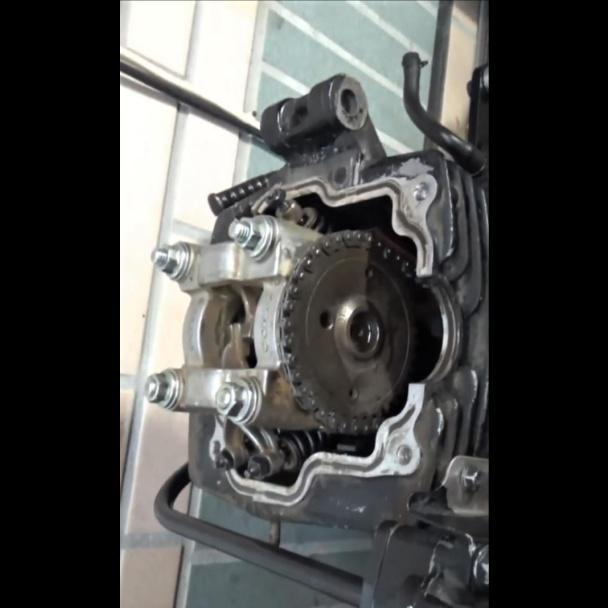hole: (396, 444, 413, 464), (414, 180, 429, 200)
